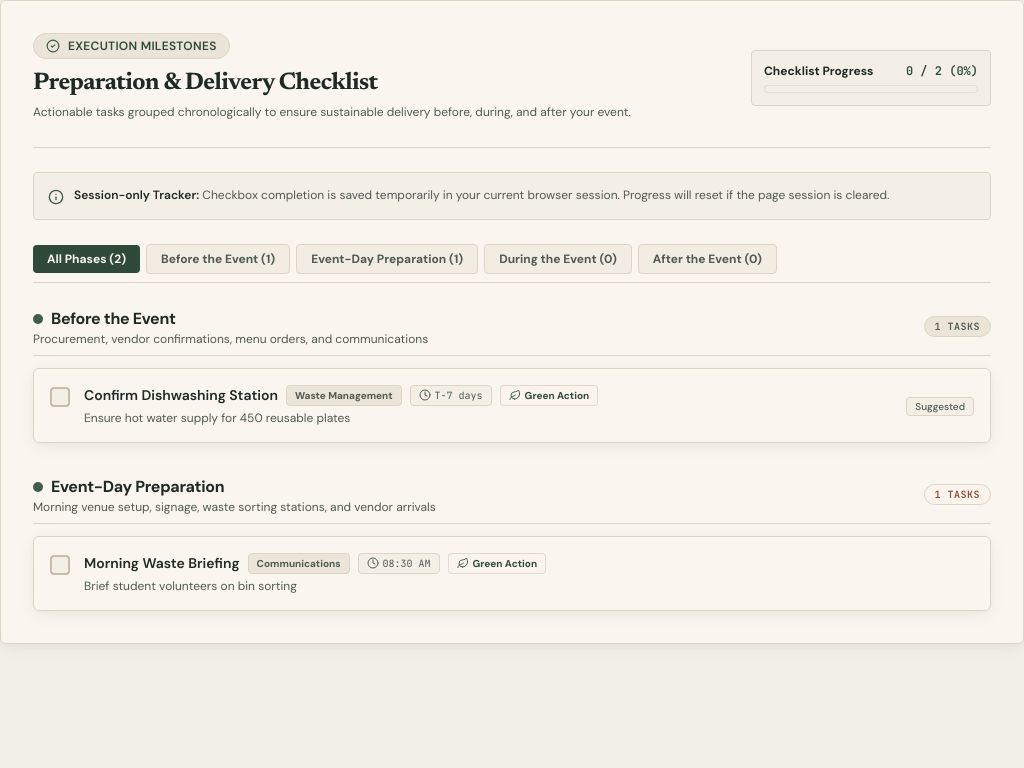
Test: Complete Event Plan (Phase 3 Frontend) › supports interactive checklist checkboxes and displays temporary progress notice
The width and height of the screenshot is (1024, 768).
Check: the text "Session-only Tracker:" is shown, box [74,186,199,202]
Check: the text "0 / 2 (0%)" is shown, box [906,63,978,79]
Click the button named "Mark task Confirm Dishwashing Station as complete" at (60, 400), box [50,386,70,414]
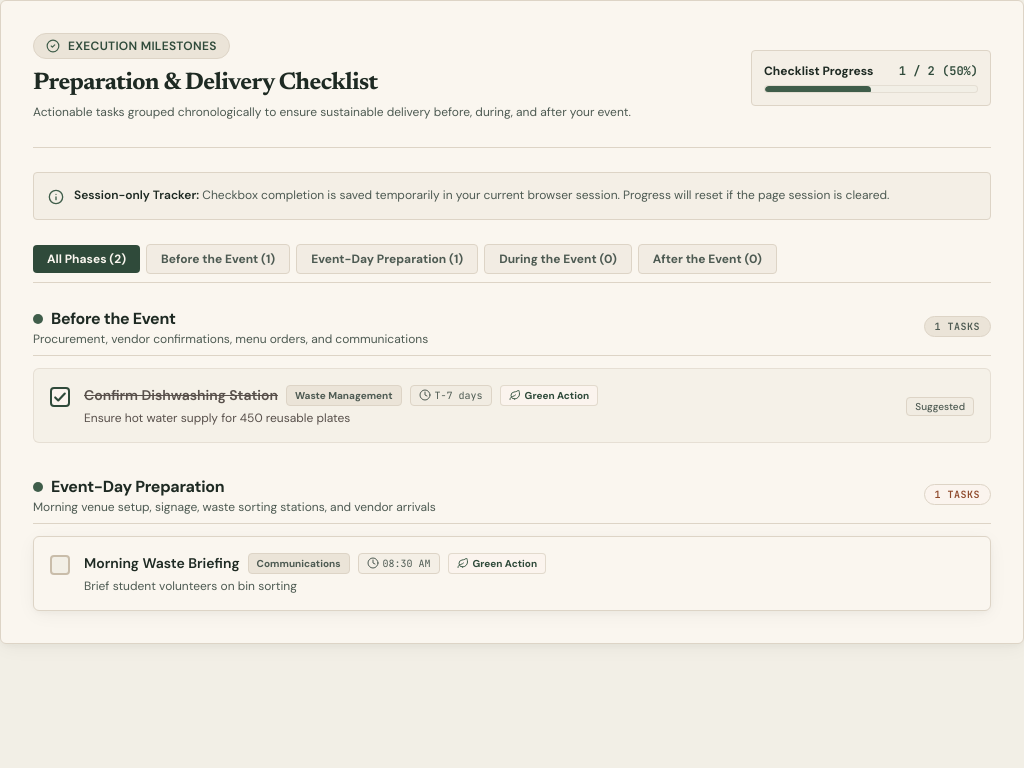
Check: the text "1 / 2 (50%)" is shown, box [899,63,978,79]
